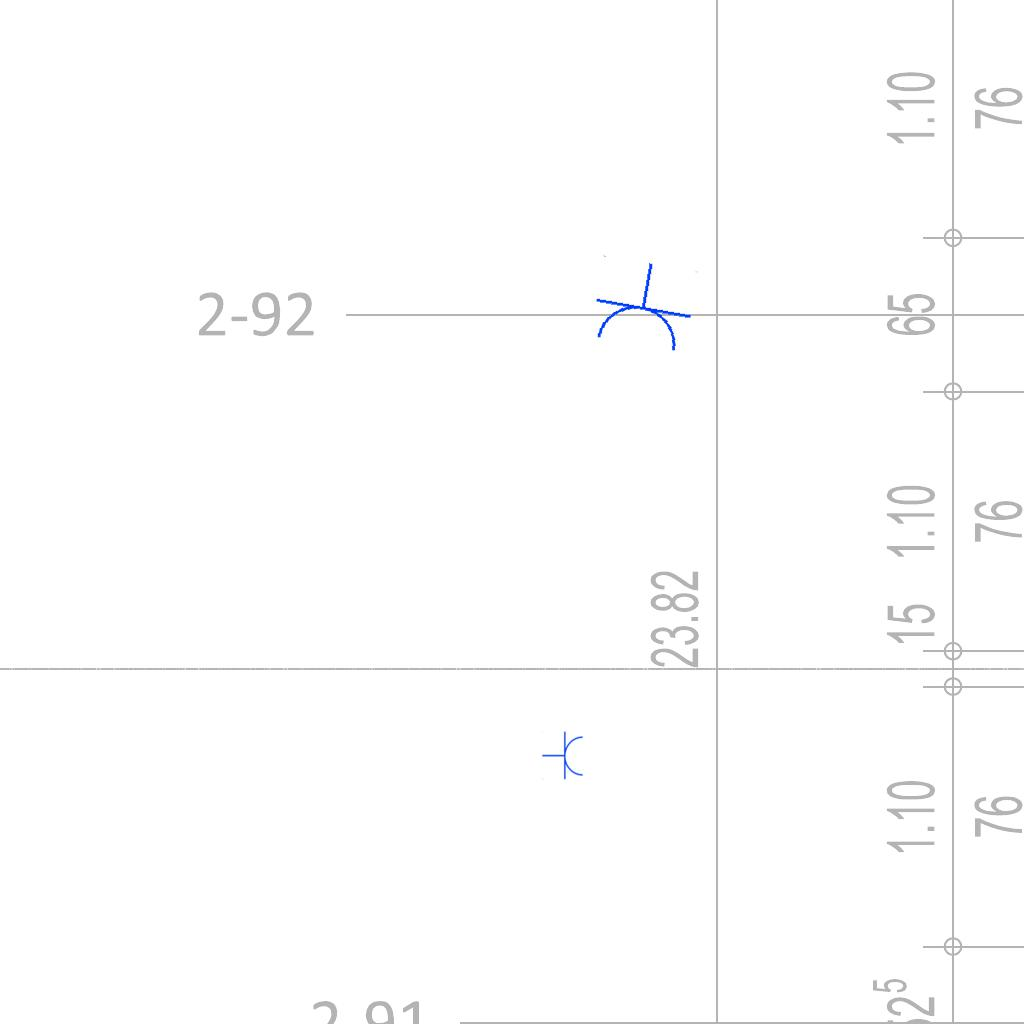Schukosteckdose_einfach: (586, 253, 700, 358), (542, 731, 585, 781)
